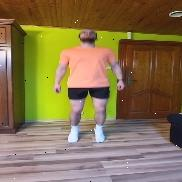high_jumps: (48, 22, 127, 148)
